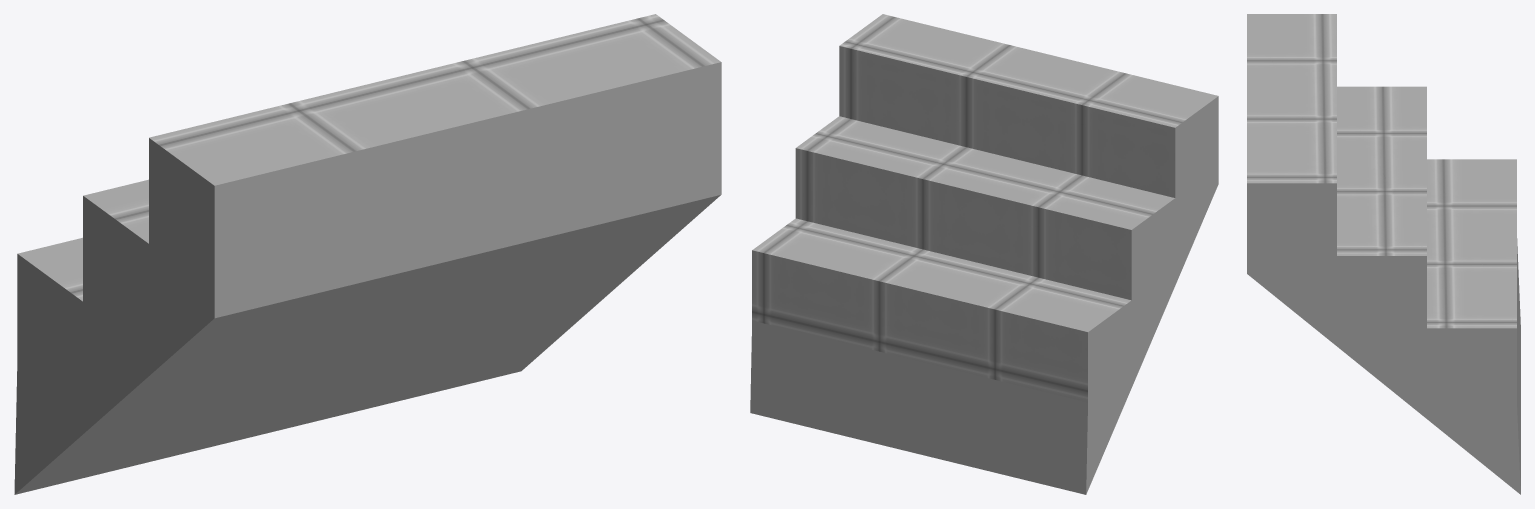
The model's file is Stair4.fbx.
3 views of the same model, side by side, from view 1: azimuth 30°, elevation 25°; view 2: azimuth 150°, elevation 25°; view 3: azimuth 270°, elevation 25° (orthographic). The views are drawn at different scales.
Parts seen in each view (by area): view 1: Stair4; view 2: Stair4; view 3: Stair4.
Boxes of the visible parts, x1,y1,x2,y2 form: Stair4: (14, 14, 721, 494); Stair4: (750, 14, 1218, 494); Stair4: (1247, 14, 1520, 494).
Size of the model in its own units: 200 by 172 by 137.
